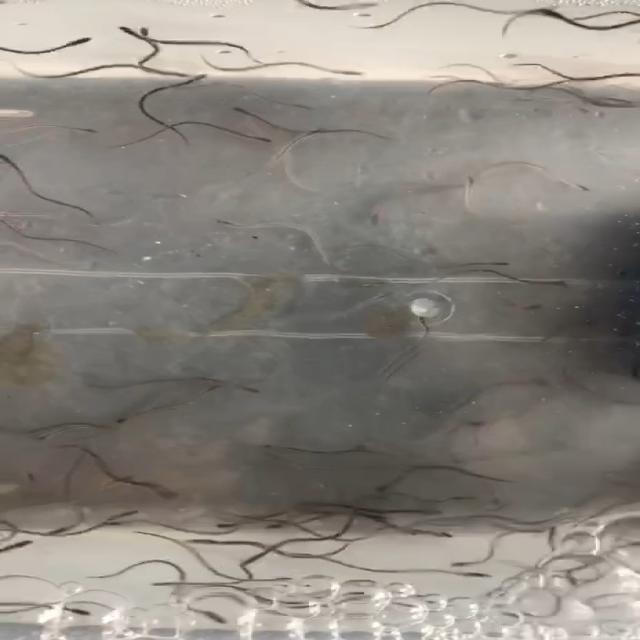active_glass_eel: (528, 269, 578, 292), (181, 531, 230, 550), (218, 104, 276, 120), (467, 251, 518, 269), (228, 132, 276, 148), (145, 574, 179, 596), (64, 124, 112, 139), (227, 374, 261, 395), (530, 6, 572, 22), (438, 552, 476, 569), (0, 147, 40, 163), (112, 406, 144, 426), (208, 517, 248, 533), (0, 539, 53, 551), (198, 607, 233, 625), (104, 514, 148, 528), (134, 21, 171, 37), (372, 477, 400, 498), (111, 26, 153, 40), (431, 524, 467, 540), (450, 486, 480, 505), (282, 97, 315, 114), (265, 516, 300, 532), (325, 65, 362, 80), (366, 209, 398, 226), (101, 472, 133, 489), (67, 603, 102, 618), (157, 68, 192, 83), (33, 428, 62, 446), (300, 126, 336, 140), (411, 504, 448, 517), (610, 95, 640, 111), (452, 172, 486, 186), (146, 489, 179, 503), (205, 216, 238, 230), (412, 312, 435, 331), (177, 76, 216, 87), (72, 35, 100, 50), (465, 570, 500, 582), (354, 0, 387, 12), (563, 179, 589, 192), (455, 0, 482, 12)
